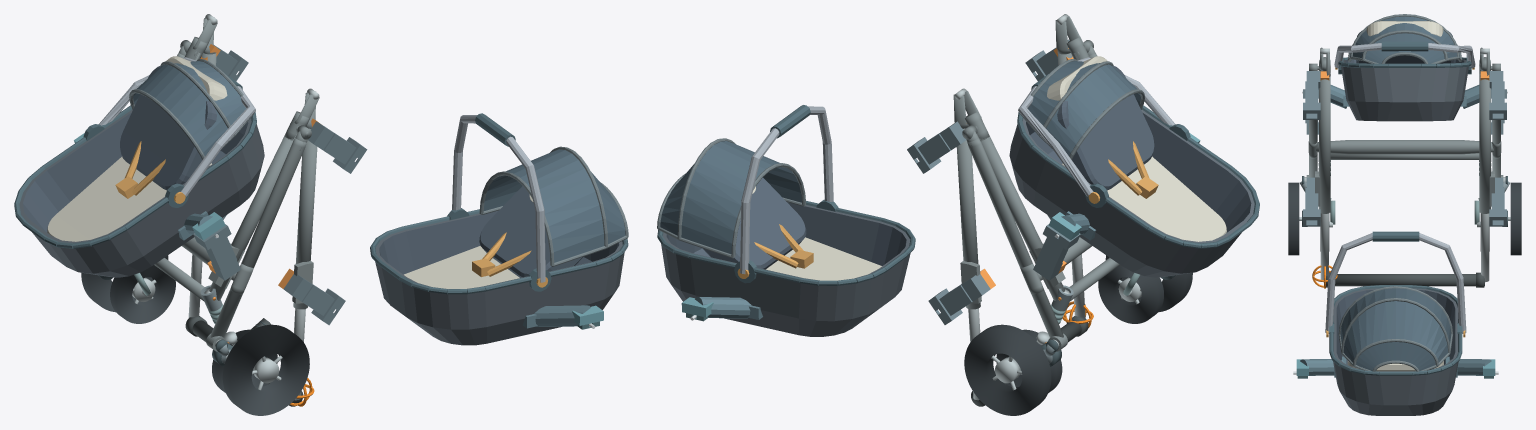
The model's file is D04_w550_state3_wheel_S.glb.
3 views of the same model, side by side, from view 1: azimuth 30°, elevation 25°; view 2: azimuth 150°, elevation 25°; view 3: azimuth 270°, elevation 25° (orthographic). The views are drawn at different scales.
Visible parts, largest first — view 1: D04_Upper, D04_Lower, RL_tire.004, V46_rear_leg_-1.005, FR_tire.004, main_lower_-1.005, main_upper_-1.005, D04_Upper_Mount_H, Universal_Cabin_Receiver_H_-1, Universal_Cabin_Receiver_M_-1, Universal_Cabin_Receiver_L_-1, D04_Lower_Mount_L (+3 smaller); view 2: D04_Upper, D04_Lower, RR_tire.004, V46_rear_leg_1.005, FL_tire.004, main_lower_1.005, main_upper_1.005, D04_Upper_Mount_H, Universal_Cabin_Receiver_H_1, Universal_Cabin_Receiver_M_1, Universal_Cabin_Receiver_L_1, D04_Lower_Mount_L (+4 smaller); view 3: D04_Upper, D04_Lower, V46_rearbar.005, round_handle.004, main_upper_1.005, main_upper_-1.005, D04_Upper_Mount_H, front_fixed_round_tube.004, RL_tire.004, RR_tire.004, Universal_Cabin_Receiver_M_-1, Universal_Cabin_Receiver_M_1 (+7 smaller).
Part boxes in pixels (left/top/right/bottom): D04_Upper: left=370, top=113, right=628, bottom=345; D04_Lower: left=14, top=56, right=264, bottom=277; RL_tire.004: left=222, top=324, right=309, bottom=415; V46_rear_leg_-1.005: left=210, top=138, right=306, bottom=337; FR_tire.004: left=110, top=265, right=175, bottom=323; main_lower_-1.005: left=209, top=134, right=296, bottom=300; main_upper_-1.005: left=293, top=128, right=317, bottom=309; D04_Upper_Mount_H: left=522, top=305, right=603, bottom=329; Universal_Cabin_Receiver_H_-1: left=283, top=274, right=345, bottom=325; Universal_Cabin_Receiver_M_-1: left=308, top=121, right=367, bottom=173; Universal_Cabin_Receiver_L_-1: left=193, top=224, right=240, bottom=280; D04_Lower_Mount_L: left=74, top=133, right=225, bottom=240; D04_Upper: left=657, top=105, right=915, bottom=336; D04_Lower: left=1009, top=56, right=1259, bottom=277; RR_tire.004: left=964, top=324, right=1051, bottom=415; V46_rear_leg_1.005: left=967, top=138, right=1063, bottom=337; FL_tire.004: left=1098, top=265, right=1163, bottom=323; main_lower_1.005: left=977, top=134, right=1064, bottom=300; main_upper_1.005: left=956, top=128, right=980, bottom=309; D04_Upper_Mount_H: left=681, top=297, right=762, bottom=321; Universal_Cabin_Receiver_H_1: left=928, top=274, right=990, bottom=324; Universal_Cabin_Receiver_M_1: left=907, top=121, right=966, bottom=173; Universal_Cabin_Receiver_L_1: left=1033, top=224, right=1080, bottom=280; D04_Lower_Mount_L: left=1048, top=133, right=1200, bottom=240; D04_Upper: left=1325, top=231, right=1466, bottom=415; D04_Lower: left=1334, top=14, right=1475, bottom=121; V46_rearbar.005: left=1316, top=140, right=1493, bottom=154; round_handle.004: left=1335, top=274, right=1484, bottom=286; main_upper_1.005: left=1479, top=76, right=1490, bottom=213; main_upper_-1.005: left=1319, top=76, right=1330, bottom=213; D04_Upper_Mount_H: left=1293, top=356, right=1498, bottom=378; front_fixed_round_tube.004: left=1330, top=153, right=1479, bottom=159; RL_tire.004: left=1288, top=182, right=1299, bottom=255; RR_tire.004: left=1510, top=182, right=1521, bottom=255; Universal_Cabin_Receiver_M_-1: left=1303, top=71, right=1320, bottom=119; Universal_Cabin_Receiver_M_1: left=1489, top=71, right=1506, bottom=119.
Bounding box in the file's own units: 1.42 × 0.7543 × 0.641.
